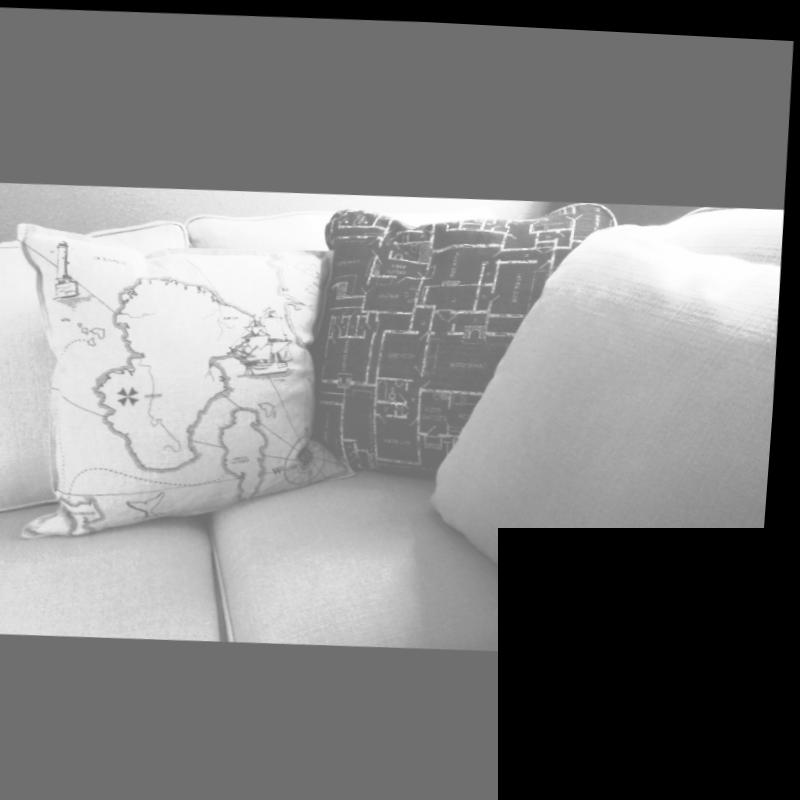pillow: (425, 201, 789, 656), (5, 220, 378, 550), (315, 186, 629, 481)
